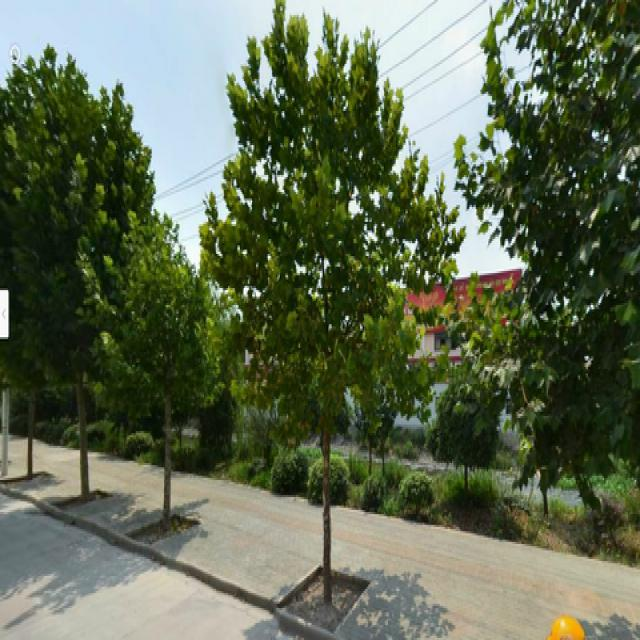meta: (210, 9, 458, 604)
